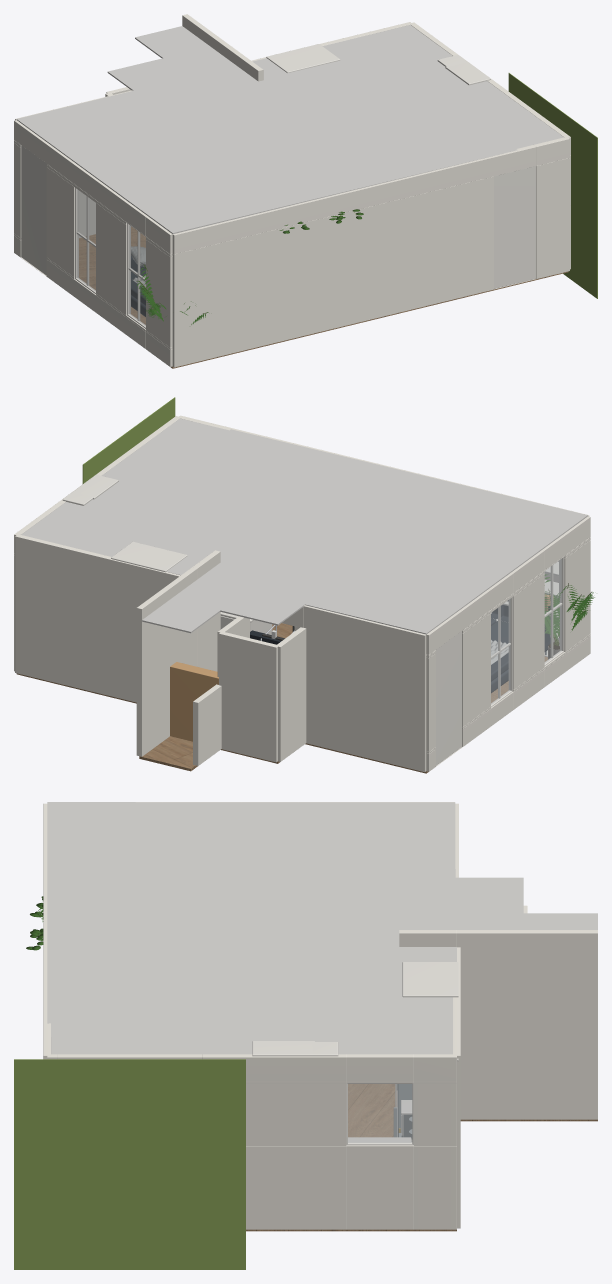
3 renders of one model, top to bottom at view 1: azimuth 30°, elevation 25°; view 2: azimuth 150°, elevation 25°; view 3: azimuth 270°, elevation 25°, orthographic. The views are drawn at different scales.
Parts seen in each view (by area): view 1: source-measured-main-ceiling, wall_8_segment.006, wall_8_segment.007, inferred_outdoor_brightness, door_panel.002, wall_8_segment.001, door_panel, wall_0_segment.015, wall_0_segment.027, wall_0_segment.003, glass.001, measured_floor_polygon (+16 smaller); view 2: source-measured-main-ceiling, wall_1_segment, wall_11_segment, wall_4_segment, wall_3_segment, wall_9_segment, wall_0_segment.015, door_panel, wall_0_segment.027, wall_0_segment.003, home-downstairs__stairs_01__step.006, measured_floor_polygon (+17 smaller); view 3: source-measured-main-ceiling, inferred_outdoor_brightness, wall_3_segment, wall_7_segment.007, wall_7_segment.008, wall_7_segment.004, glass.002, wall_7_segment, measured_floor_polygon, wall_7_segment.010, wall_7_segment.001, home-downstairs__storage_17__countertop (+7 smaller).
Boxes of the visible parts, box(x1,y1,x2,y2) form: source-measured-main-ceiling: box(16, 25, 563, 233); wall_8_segment.006: box(172, 176, 493, 367); wall_8_segment.007: box(172, 156, 493, 254); inferred_outdoor_brightness: box(508, 73, 597, 298); door_panel.002: box(494, 166, 535, 288); wall_8_segment.001: box(536, 158, 569, 278); door_panel: box(21, 145, 46, 275); wall_0_segment.015: box(96, 203, 130, 315); wall_0_segment.027: box(46, 167, 78, 277); wall_0_segment.003: box(146, 240, 172, 347); glass.001: box(77, 189, 95, 291); measured_floor_polygon: box(79, 226, 568, 368); source-measured-main-ceiling: box(21, 418, 587, 634); wall_1_segment: box(15, 535, 180, 702); wall_11_segment: box(294, 605, 426, 771); wall_4_segment: box(219, 632, 278, 762); wall_3_segment: box(136, 567, 197, 756); wall_9_segment: box(277, 627, 306, 761); wall_0_segment.015: box(508, 574, 544, 689); door_panel: box(436, 631, 461, 765); wall_0_segment.027: box(462, 613, 490, 726); wall_0_segment.003: box(560, 540, 590, 651); home-downstairs__stairs_01__step.006: box(170, 662, 218, 741); measured_floor_polygon: box(16, 623, 547, 773); source-measured-main-ceiling: box(47, 802, 597, 1054); inferred_outdoor_brightness: box(14, 1059, 245, 1269); wall_3_segment: box(457, 930, 597, 1119); wall_7_segment.007: box(246, 1146, 346, 1229); wall_7_segment.008: box(246, 1083, 346, 1145); wall_7_segment.004: box(346, 1145, 413, 1229); glass.002: box(348, 1084, 411, 1142); wall_7_segment: box(414, 1146, 456, 1229); measured_floor_polygon: box(246, 1084, 597, 1231); wall_7_segment.010: box(202, 1054, 346, 1081); wall_7_segment.001: box(414, 1083, 456, 1145); home-downstairs__storage_17__countertop: box(402, 962, 458, 997).
Bounding box in the file's own units: 8.43 × 3.11 × 7.55.
47 materials, 1 textured.
